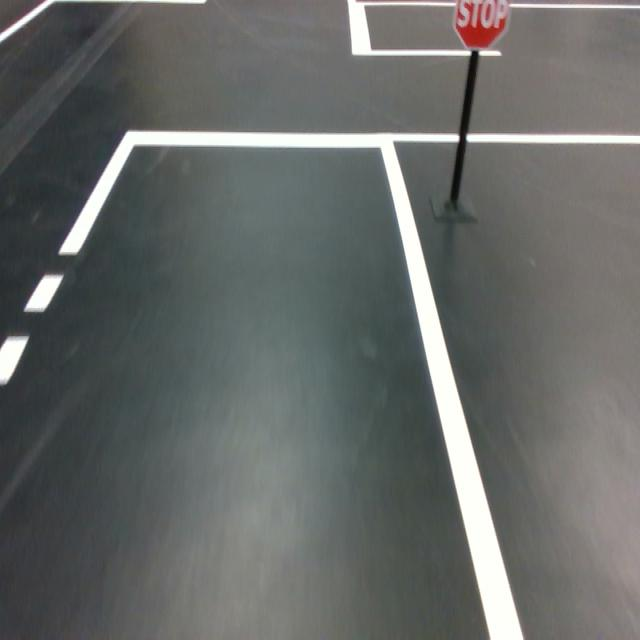stop-sign: (451, 0, 511, 51)
